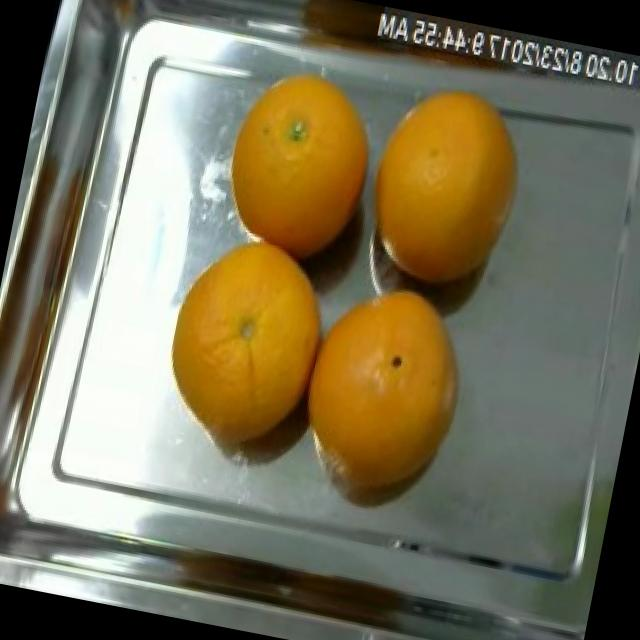Fruit: (205, 41, 399, 292), (151, 214, 351, 446), (353, 61, 550, 286)
